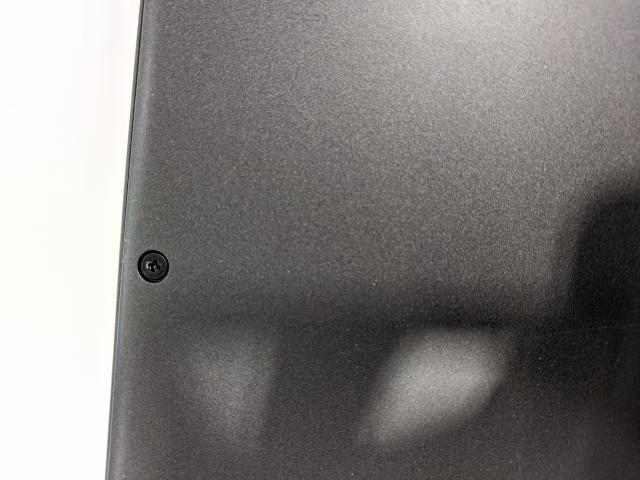CRS: (138, 248, 168, 280)
